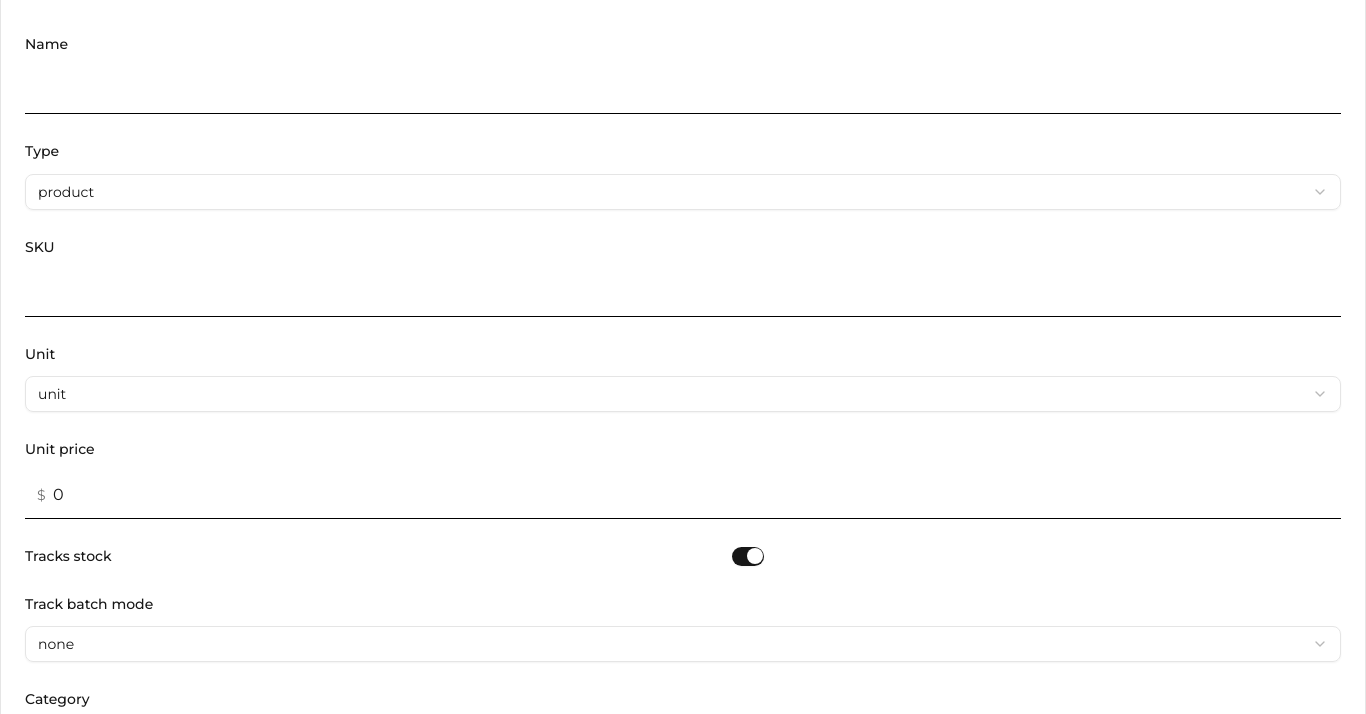
Test: ItemFormPanel › blocks invalid submissions and shows validation errors
The image size is (1366, 714).
Replace the text in the number field labelled "Unit price" with "-1" at (683, 495), box [25,471,1341,519]
(page scrolled)
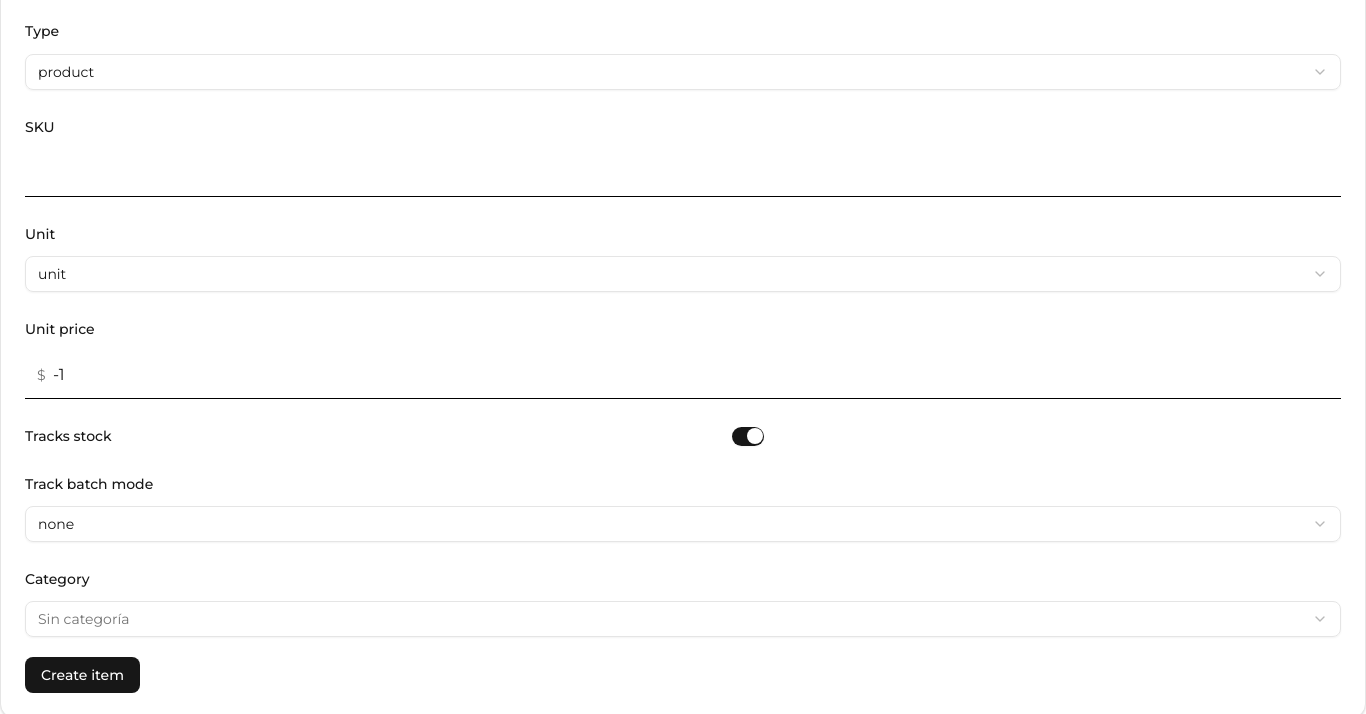
Click the button "Create item".
click(82, 675)  # box [25,657,140,693]
(page scrolled)
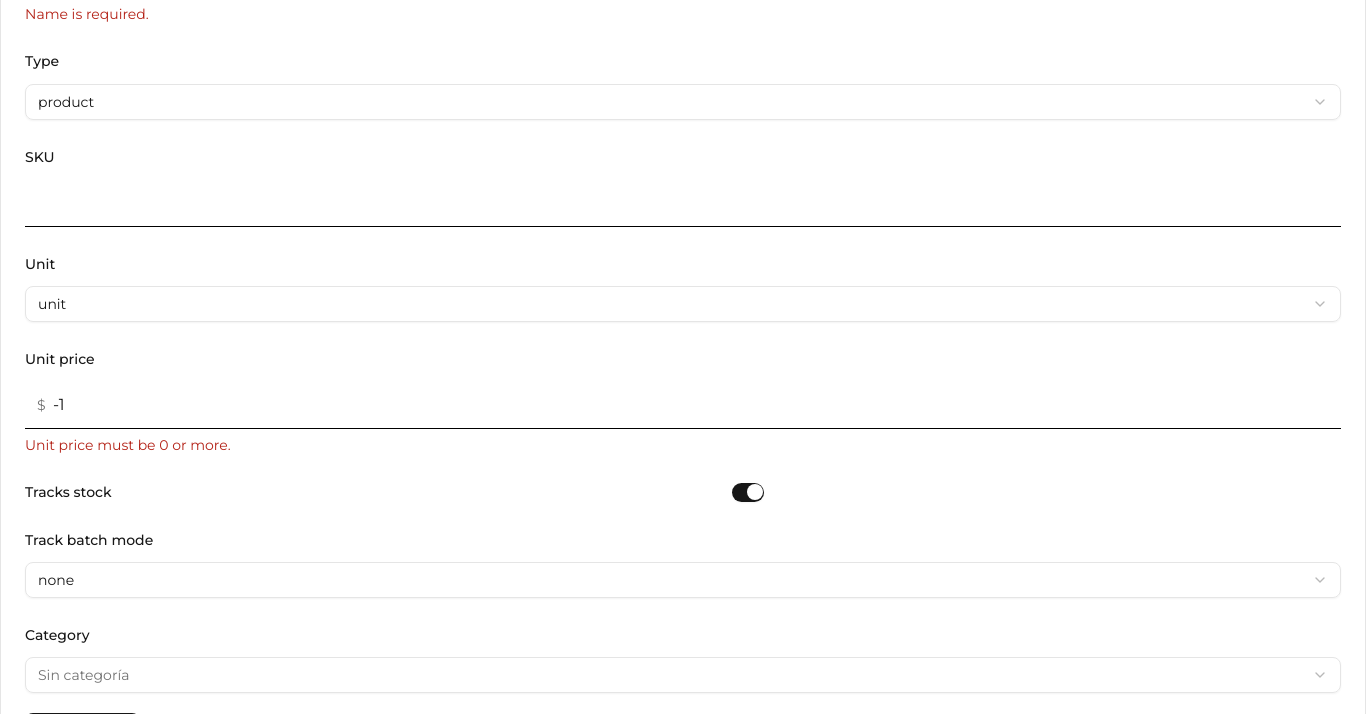
Result: the text "Name is required." is shown at [25,5,149,23]
Result: the text "Unit price must be 0 or more." is shown at [25,436,231,454]
